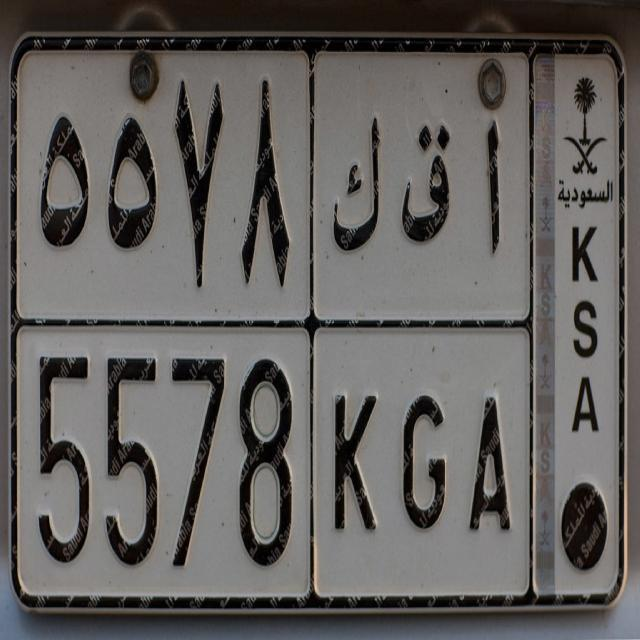license_plate: (9, 313, 536, 607)
